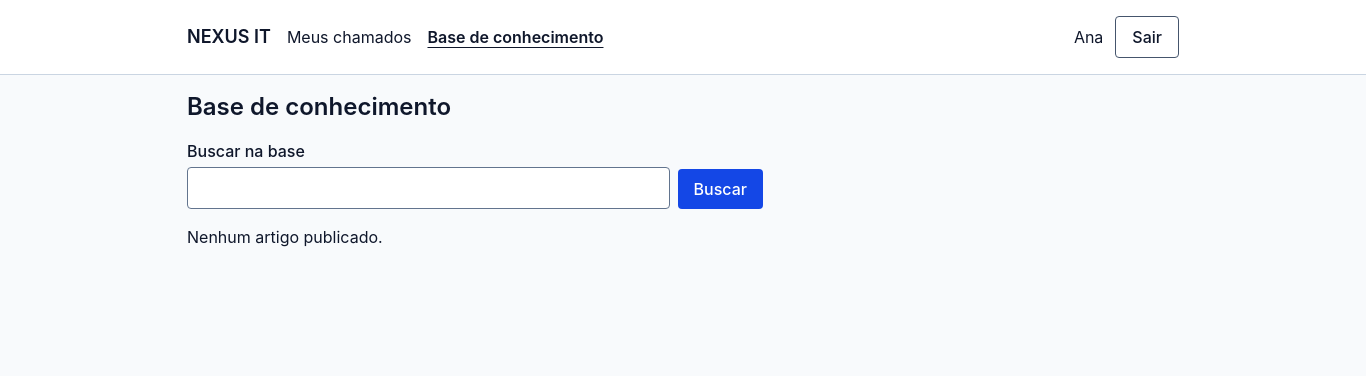
Scenario: textos da base (NFR-06) › busca com 1 resultado usa o singular
Type "termo" into the search field labelled "Buscar na base" at [428, 188], box [187, 167, 670, 209]
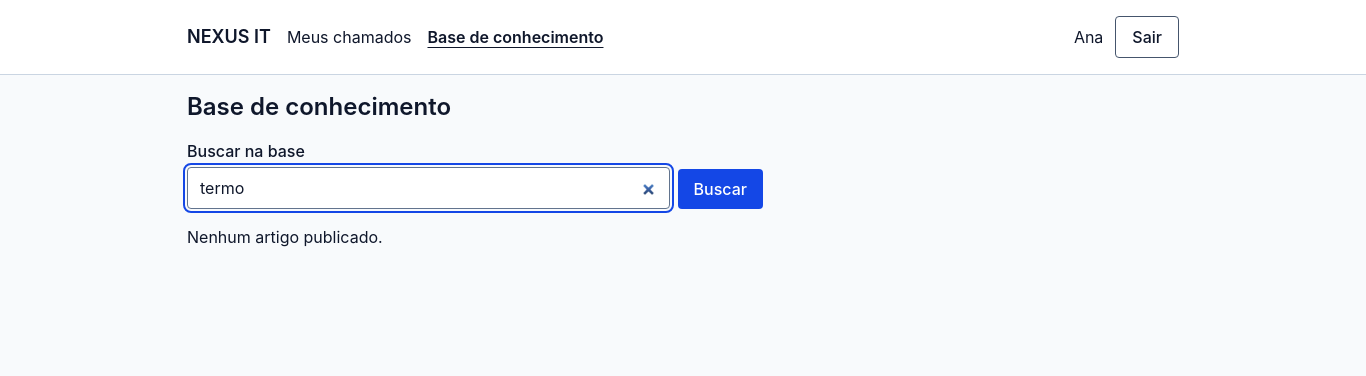
Click the button "Buscar" at [720, 189], box [678, 169, 763, 209]
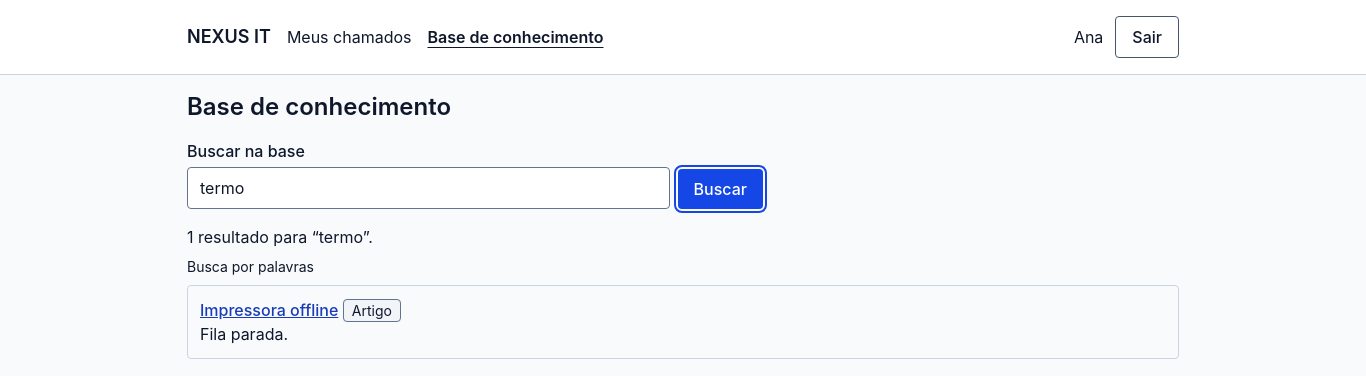
Check: the link "Impressora offline" is shown, box [200, 300, 338, 320]
Check: the message reads "1 resultado para “termo”.", box [187, 227, 373, 247]
